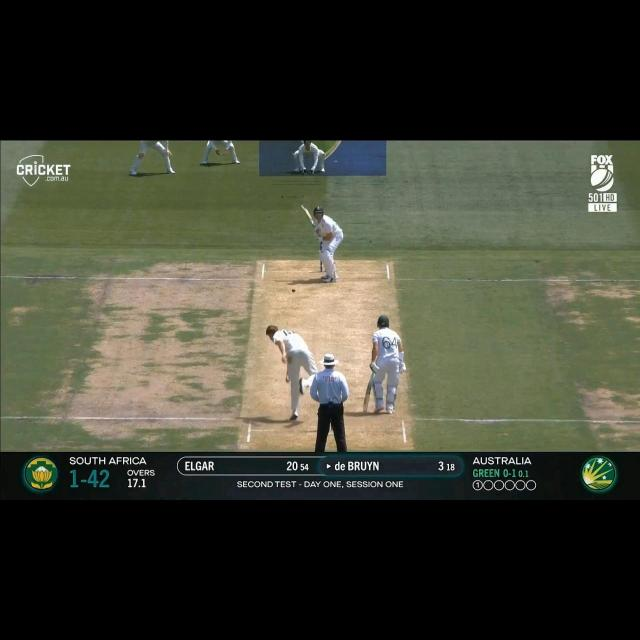bat: (362, 381, 374, 414), (301, 205, 315, 226)
toe: (301, 205, 308, 212), (362, 405, 367, 414)
